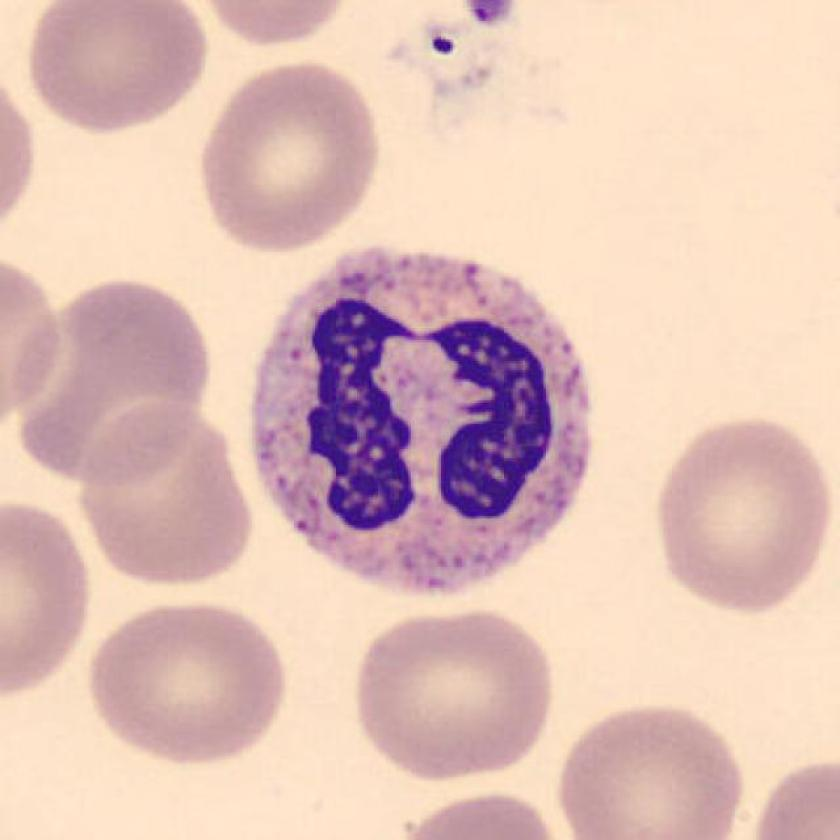neutrophil: (254, 251, 589, 596)
